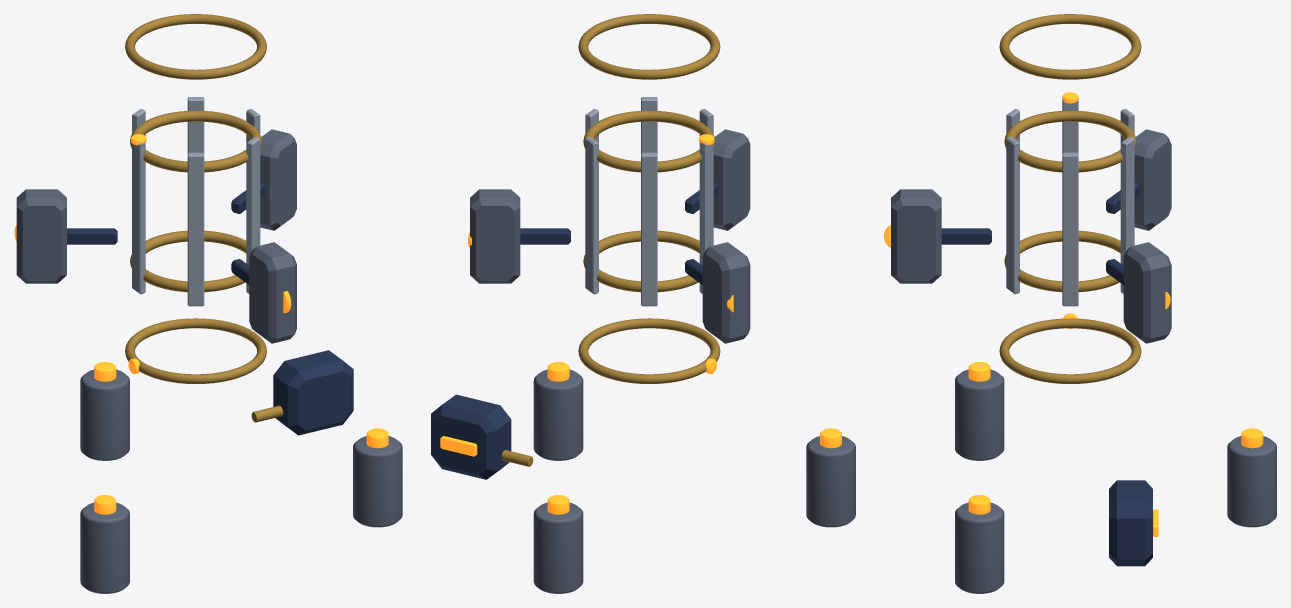
The model's file is tower_overclock_potency_s7.glb.
3 views of the same model, side by side, from view 1: azimuth 30°, elevation 25°; view 2: azimuth 150°, elevation 25°; view 3: azimuth 270°, elevation 25° (orthographic).
Parts seen in each view (by area): view 1: overclock_trap_coupler, overclock_aura_emitter0, overclock_aura_emitter2, overclock_cap0, overclock_cap1, overclock_cap2, overclock_aura_emitter1, overclock_conductor_b2.36, overclock_conductor_b1.14, overclock_vane5, overclock_conductor1.98, overclock_vane0 (+4 smaller); view 2: overclock_trap_coupler, overclock_aura_emitter1, overclock_aura_emitter0, overclock_cap1, overclock_cap0, overclock_cap2, overclock_aura_emitter2, overclock_conductor_b2.36, overclock_conductor_b1.14, overclock_vane1, overclock_conductor1.98, overclock_vane2 (+4 smaller); view 3: overclock_aura_emitter2, overclock_aura_emitter1, overclock_cap2, overclock_cap0, overclock_cap1, overclock_trap_coupler, overclock_aura_emitter0, overclock_conductor_b2.36, overclock_conductor_b1.14, overclock_conductor1.98, overclock_vane3, overclock_vane4 (+4 smaller).
Boxes of the visible parts, <box> form: overclock_trap_coupler: <box>273,350,353,435</box>; overclock_aura_emitter0: <box>16,189,66,283</box>; overclock_aura_emitter2: <box>249,242,296,343</box>; overclock_cap0: <box>80,369,129,460</box>; overclock_cap1: <box>353,436,402,527</box>; overclock_cap2: <box>80,502,129,593</box>; overclock_aura_emitter1: <box>260,129,296,230</box>; overclock_conductor_b2.36: <box>125,14,266,79</box>; overclock_conductor_b1.14: <box>125,318,266,383</box>; overclock_vane5: <box>187,152,204,306</box>; overclock_conductor1.98: <box>130,110,261,172</box>; overclock_vane0: <box>132,142,145,294</box>; overclock_trap_coupler: <box>431,394,511,479</box>; overclock_aura_emitter1: <box>470,189,520,283</box>; overclock_aura_emitter0: <box>702,242,750,343</box>; overclock_cap1: <box>533,369,583,460</box>; overclock_cap0: <box>533,502,583,593</box>; overclock_cap2: <box>806,436,855,527</box>; overclock_aura_emitter2: <box>713,129,750,230</box>; overclock_conductor_b2.36: <box>578,14,720,79</box>; overclock_conductor_b1.14: <box>578,318,720,383</box>; overclock_vane1: <box>641,152,657,306</box>; overclock_conductor1.98: <box>583,110,715,172</box>; overclock_vane2: <box>585,136,598,294</box>; overclock_aura_emitter2: <box>891,189,941,283</box>; overclock_aura_emitter1: <box>1123,242,1171,343</box>; overclock_cap2: <box>955,369,1004,460</box>; overclock_cap0: <box>1227,436,1276,527</box>; overclock_cap1: <box>955,502,1004,593</box>; overclock_trap_coupler: <box>1109,480,1152,566</box>; overclock_aura_emitter0: <box>1134,129,1171,230</box>; overclock_conductor_b2.36: <box>999,14,1141,79</box>; overclock_conductor_b1.14: <box>999,318,1141,383</box>; overclock_conductor1.98: <box>1004,110,1136,172</box>; overclock_vane3: <box>1062,152,1078,306</box>; overclock_vane4: <box>1006,136,1019,294</box>.
Size of the model in its own units: 1.42 by 1.91 by 1.43.
